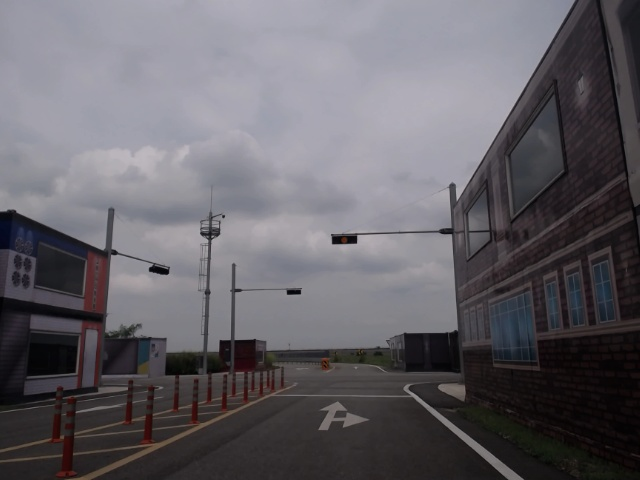orange_3: (332, 235, 357, 244)
